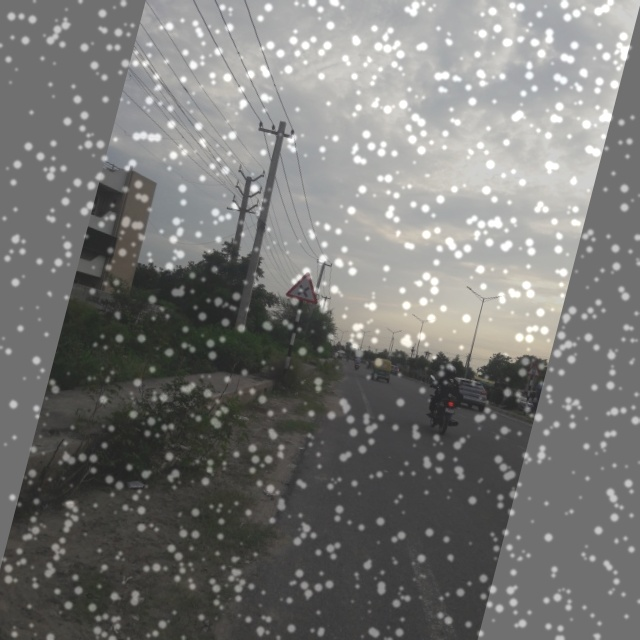Cross_Road: (282, 262, 328, 308)
